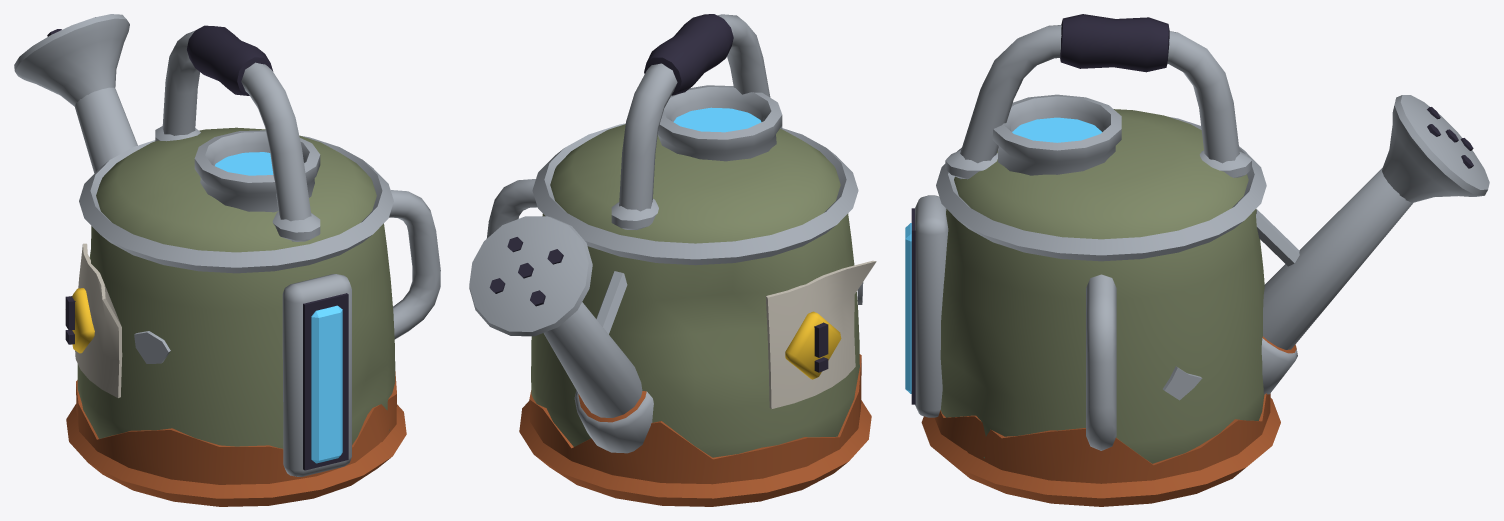
File: watering_can.glb
The picture shows the model from 3 angles, left to right: view 1: azimuth 30°, elevation 25°; view 2: azimuth 150°, elevation 25°; view 3: azimuth 270°, elevation 25°; orthographic projection. The views are drawn at different scales.
Parts seen in each view (by area): view 1: Can, Fill, WaterTop; view 2: Can, WaterTop; view 3: Can, WaterTop, Fill.
Boxes of the visible parts, <box> form: Can: <box>14,14,440,506</box>; Fill: <box>311,305,342,463</box>; WaterTop: <box>215,152,273,175</box>; Can: <box>469,14,876,506</box>; WaterTop: <box>673,107,761,132</box>; Can: <box>911,14,1489,506</box>; WaterTop: <box>1012,117,1102,142</box>; Fill: <box>905,223,911,393</box>.
Bounding box in the file's own units: 0.3929 × 0.4221 × 0.53.
